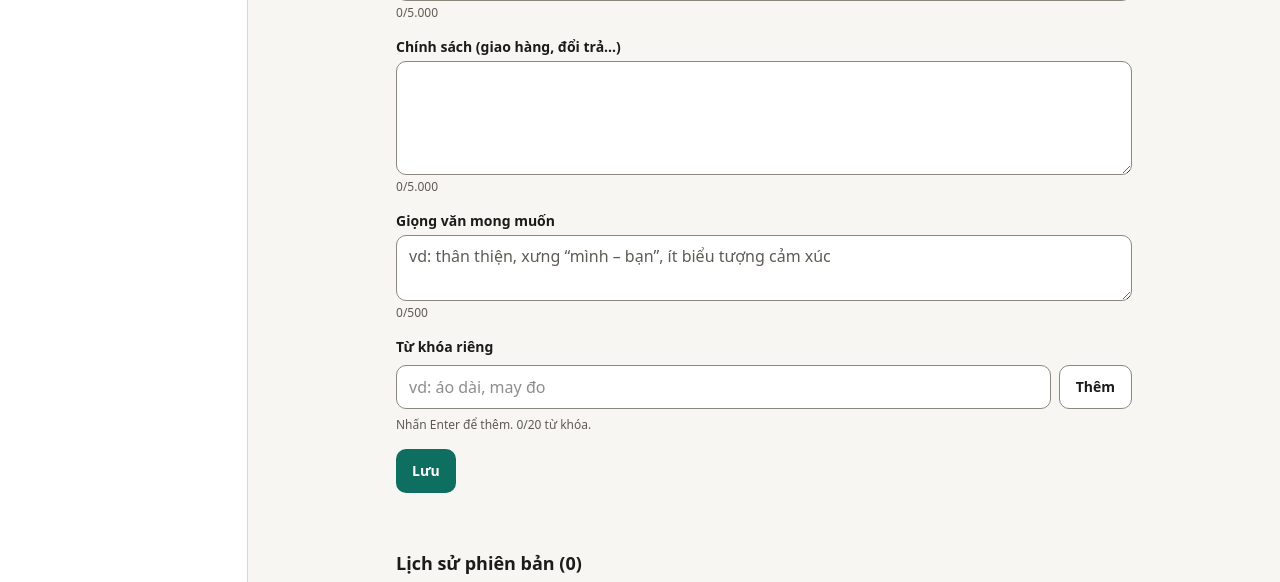
Test: BusinessProfilePage – chủ tài khoản › lỗi hợp lệ ở web: lỗi cạnh ô (aria-invalid, aria-describedby), tóm tắt, tiêu điểm vào ô lỗi đầu; không gọi API
(page scrolled)
Click the button "Lưu" at (426, 471), box [396,449,456,493]
(page scrolled)
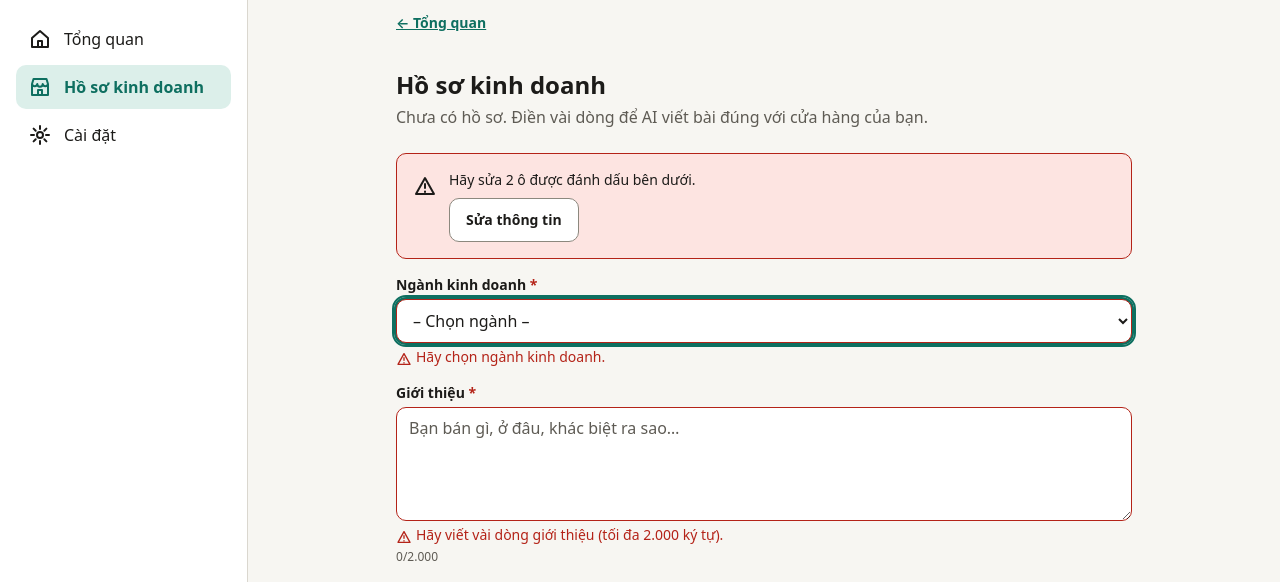
Check: the text "Hãy chọn ngành kinh doanh." is shown, box [416,347,605,367]
Check: the text "Hãy sửa 2 ô được đánh dấu bên dưới." is shown, box [449,170,696,189]
